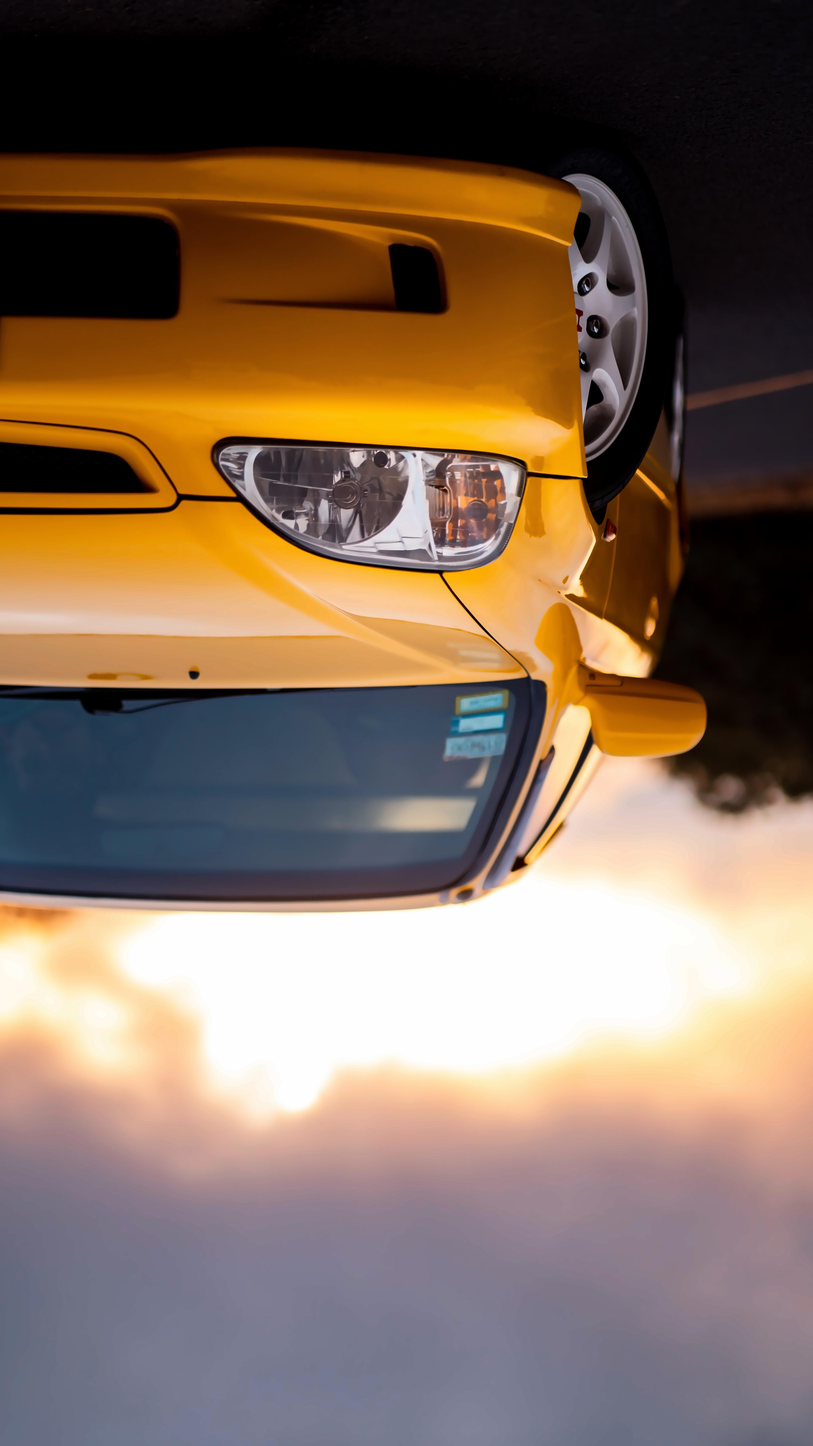Car hood: (0, 485, 533, 697)
Fender - -F-R-: (441, 408, 627, 693)
Front bumper: (0, 138, 636, 451)
Headlight - -R-: (205, 429, 533, 583)
Side mirror - -R-: (559, 661, 730, 765), (559, 658, 721, 765)
